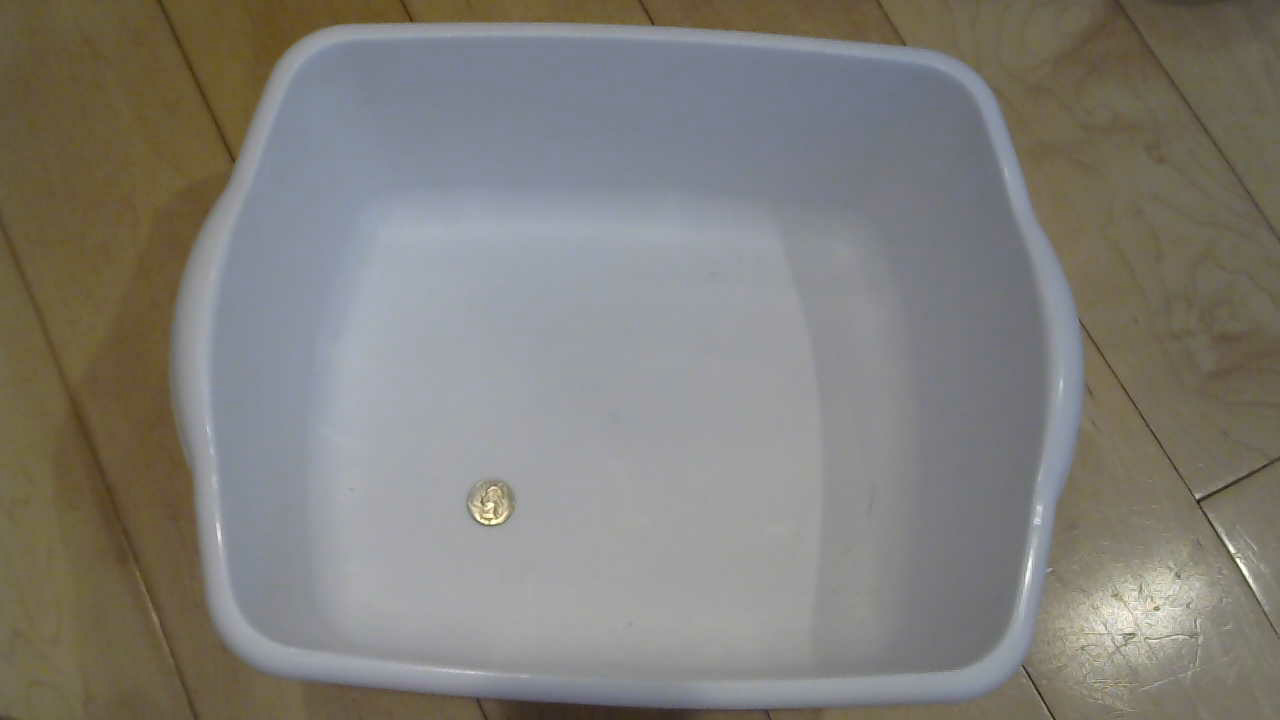coin: (466, 476, 530, 535)
